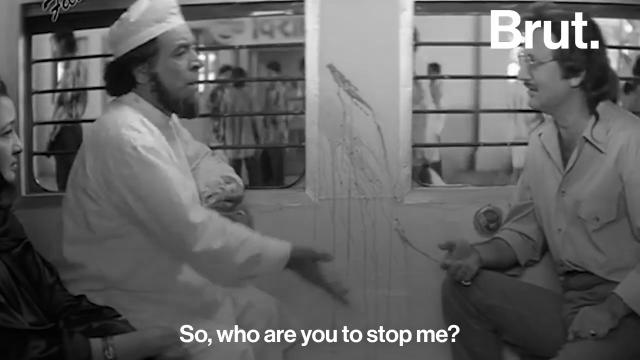spit: (304, 52, 408, 198)
